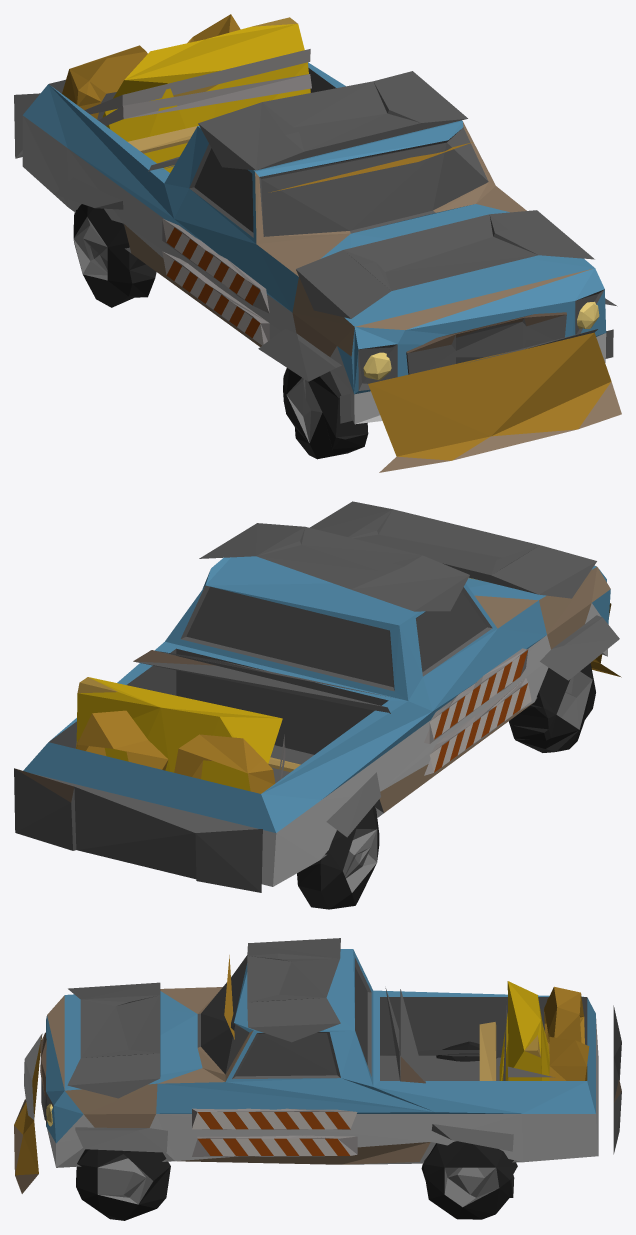
File: pickup_armored_lod.glb
3 renders of one model, top to bottom at view 1: azimuth 30°, elevation 25°; view 2: azimuth 150°, elevation 25°; view 3: azimuth 270°, elevation 25°, orthographic. The views are drawn at different scales.
Parts seen in each view (by area): view 1: Pickup_Armored, BackWheels, FrontWheel_R; view 2: Pickup_Armored, FrontWheel_R, BackWheels; view 3: Pickup_Armored, BackWheels, FrontWheel_L.
Boxes of the visible parts, x1,y1,x2,y2 form: Pickup_Armored: [14, 14, 621, 472]; BackWheels: [73, 204, 156, 307]; FrontWheel_R: [283, 368, 368, 459]; Pickup_Armored: [14, 501, 621, 892]; FrontWheel_R: [509, 663, 595, 752]; BackWheels: [297, 806, 379, 909]; Pickup_Armored: [14, 938, 621, 1193]; BackWheels: [421, 1041, 517, 1219]; FrontWheel_L: [76, 1149, 170, 1220].
Size of the model in its own units: 2.61 by 1.96 by 5.46.
2 materials, 1 textured.
